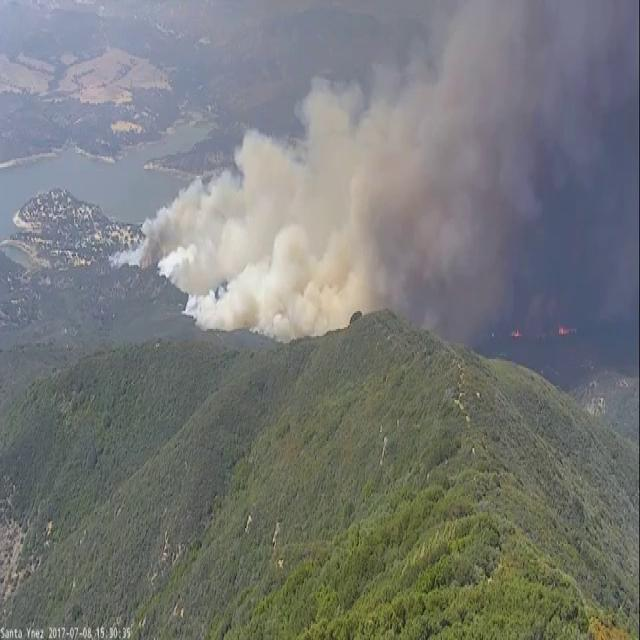Fire: (556, 324, 574, 334), (509, 325, 522, 338)
Smoke: (126, 6, 633, 350), (138, 34, 430, 346), (110, 106, 284, 346), (249, 204, 353, 350), (172, 288, 224, 334), (149, 242, 195, 282), (100, 236, 140, 272)
